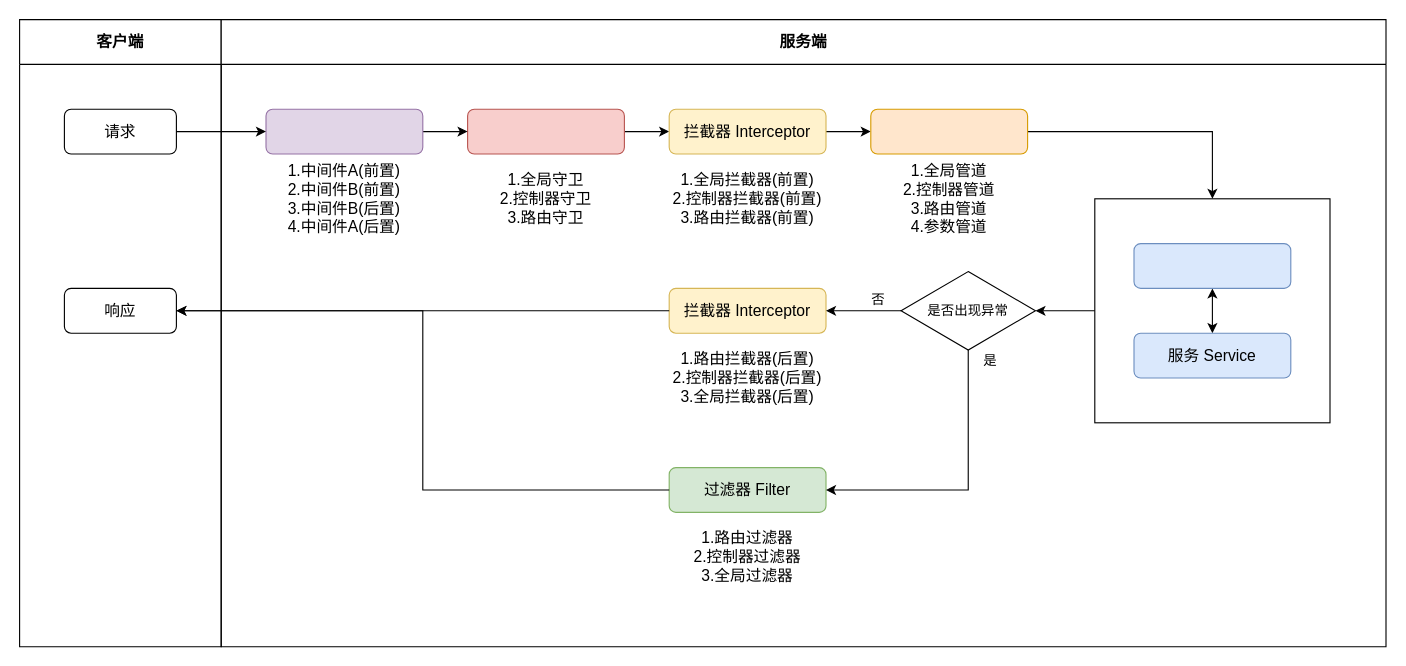
This 1406x666 diagram has some shape labels left out. Here are the shapes that lost their labels. From the top down, the box of each, then its label:
(265, 108, 423, 154): 中间件 Middleware
(466, 108, 624, 154): 守卫 Guard
(870, 108, 1028, 154): 管道 Pipe
(1133, 242, 1291, 288): 控制器 Controller
